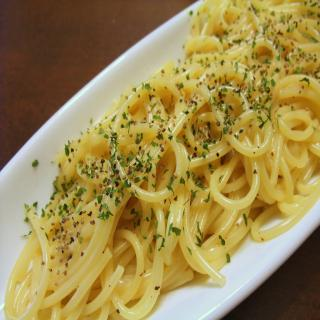Pasta: (9, 13, 320, 307)
